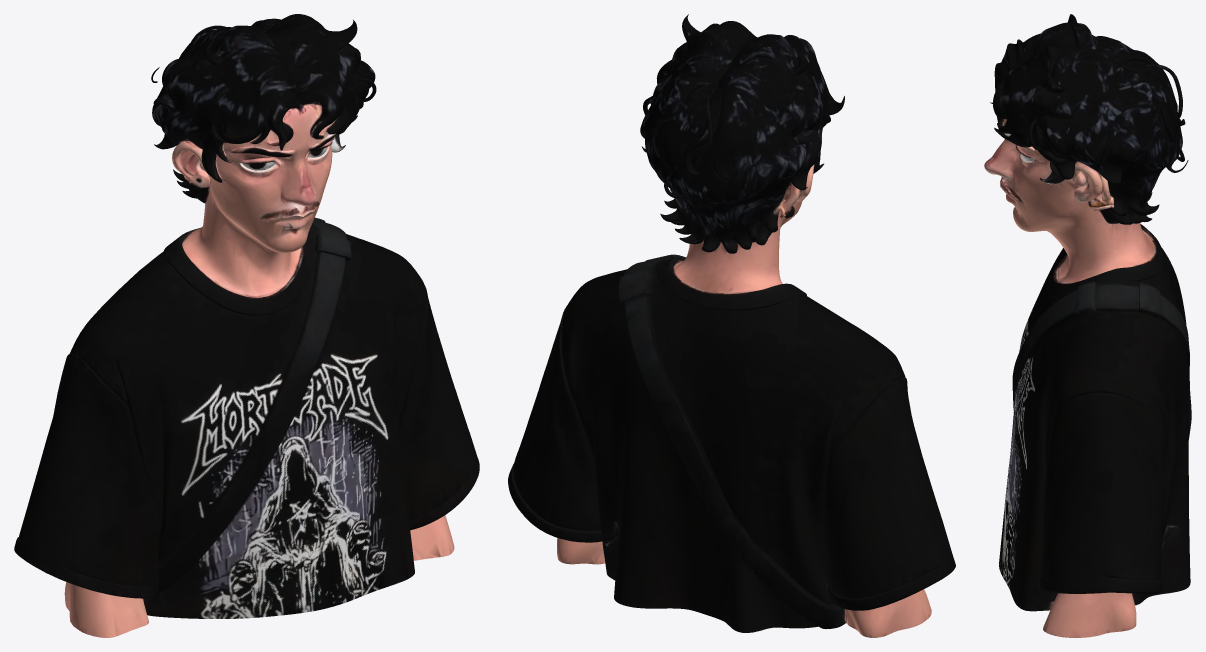
The model's file is diogo.glb.
3 renders of one model, left to right at view 1: azimuth 30°, elevation 25°; view 2: azimuth 150°, elevation 25°; view 3: azimuth 270°, elevation 25°, orthographic. The views are drawn at different scales.
Visible parts, largest first — view 1: model; view 2: model; view 3: model.
Boxes of the visible parts, x1,y1,x2,y2 form: model: [14, 14, 479, 637]; model: [508, 14, 955, 637]; model: [984, 14, 1191, 637].
Size of the model in its own units: 1.6 by 1.9 by 0.6844.
Materials: 1 (1 with a texture image).
